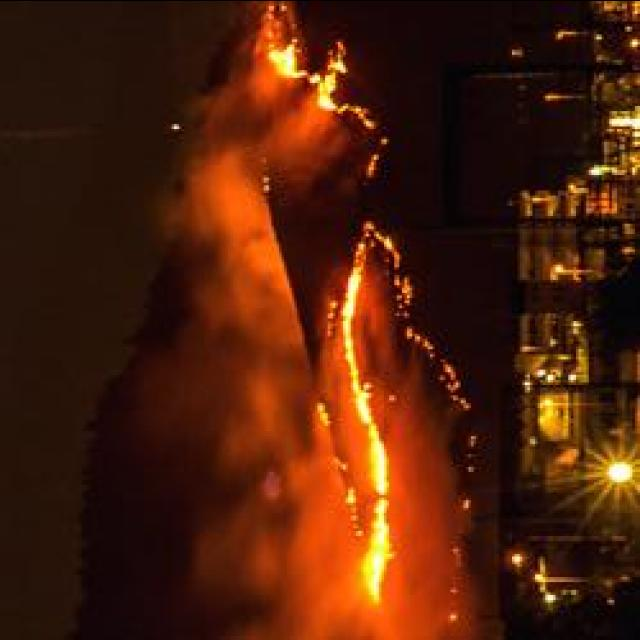fire: (366, 510, 389, 580), (370, 437, 390, 492), (353, 386, 373, 426), (344, 272, 362, 314), (273, 50, 301, 76), (316, 77, 338, 109)
smoke: (146, 165, 256, 383), (208, 518, 362, 640), (187, 346, 310, 471), (212, 85, 319, 154), (379, 589, 481, 640)
